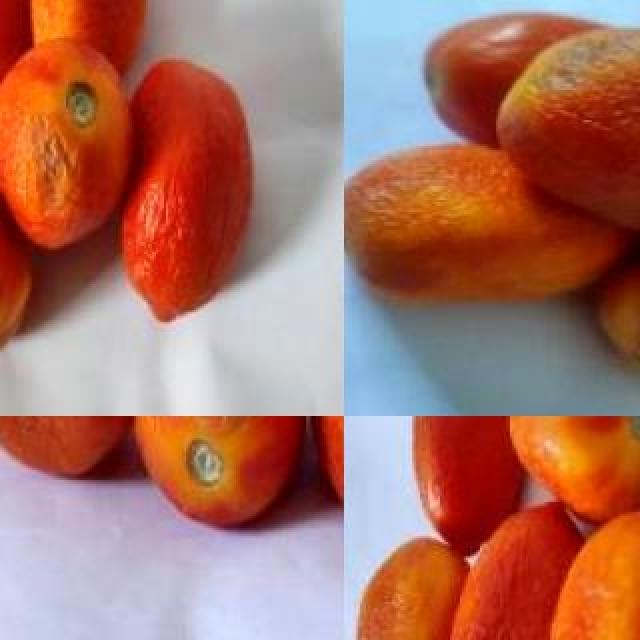Rotten_Tomato: (344, 134, 640, 312), (116, 48, 266, 336), (484, 18, 640, 250), (416, 6, 636, 158), (0, 34, 142, 256), (126, 416, 314, 568), (436, 496, 604, 640), (0, 416, 144, 562), (398, 416, 530, 564), (138, 416, 340, 512), (0, 146, 80, 384), (526, 498, 640, 640), (26, 0, 156, 122), (498, 416, 640, 526), (344, 528, 476, 640), (582, 212, 640, 402), (0, 0, 66, 138), (172, 416, 254, 468)
